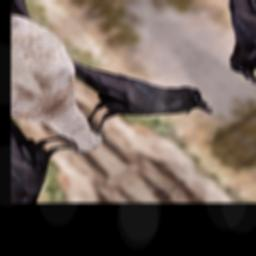Crow: (41, 20, 222, 167)
